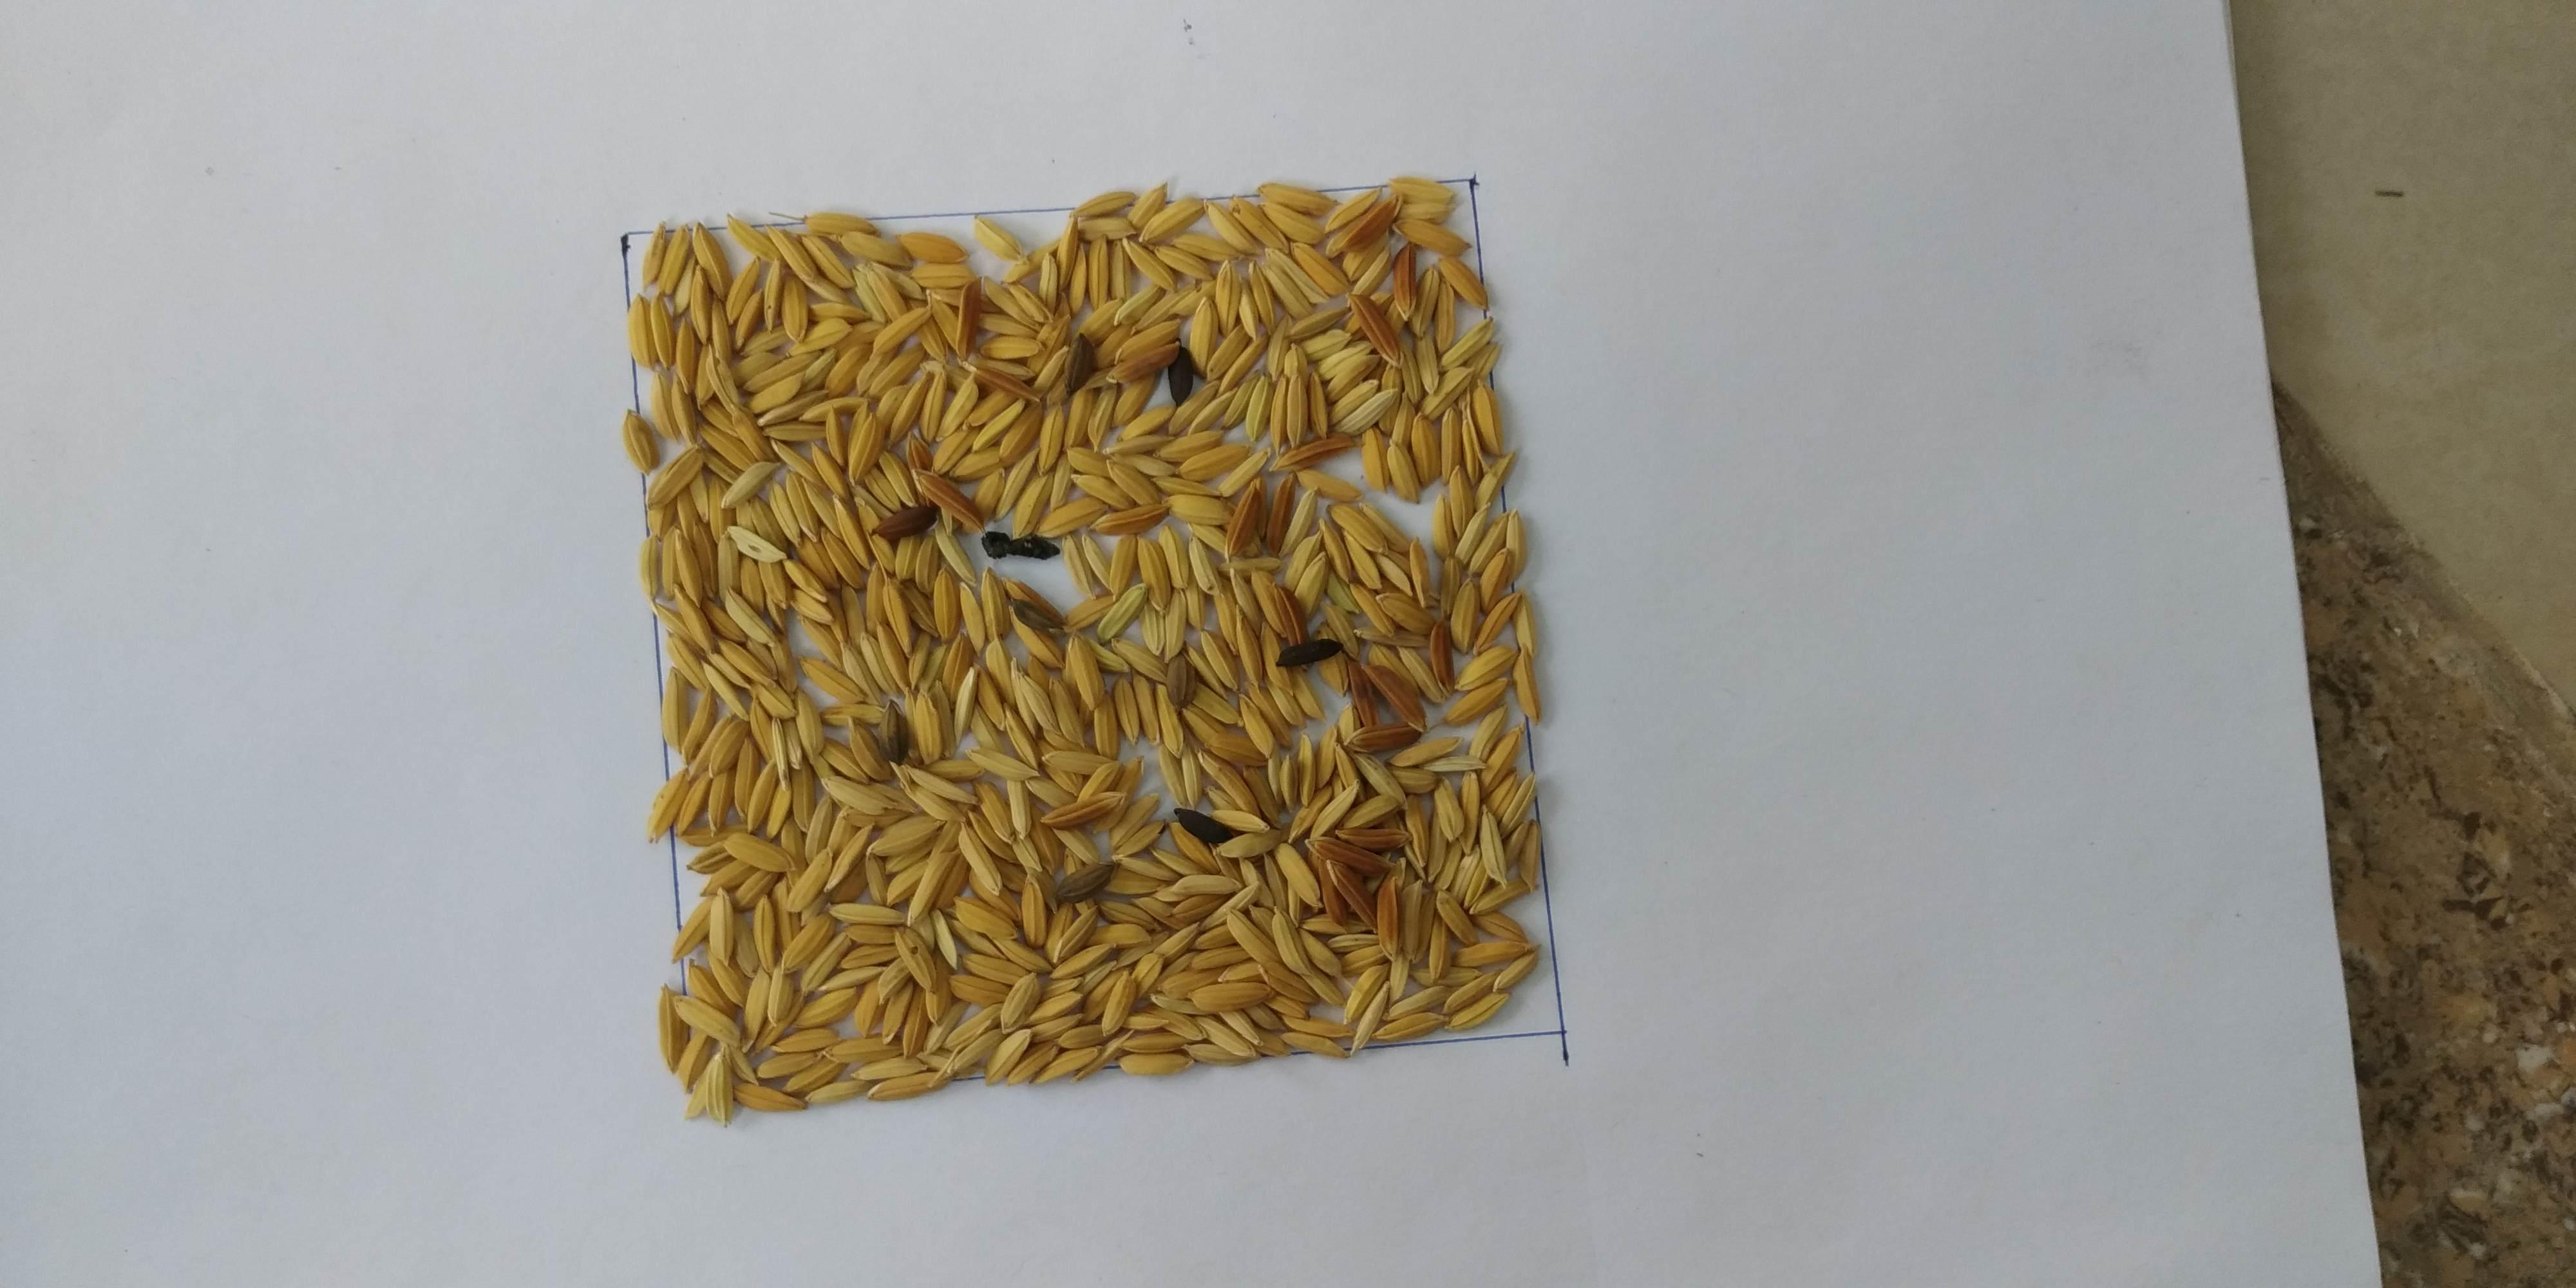Partialimpure: (692, 238, 1475, 1030)
